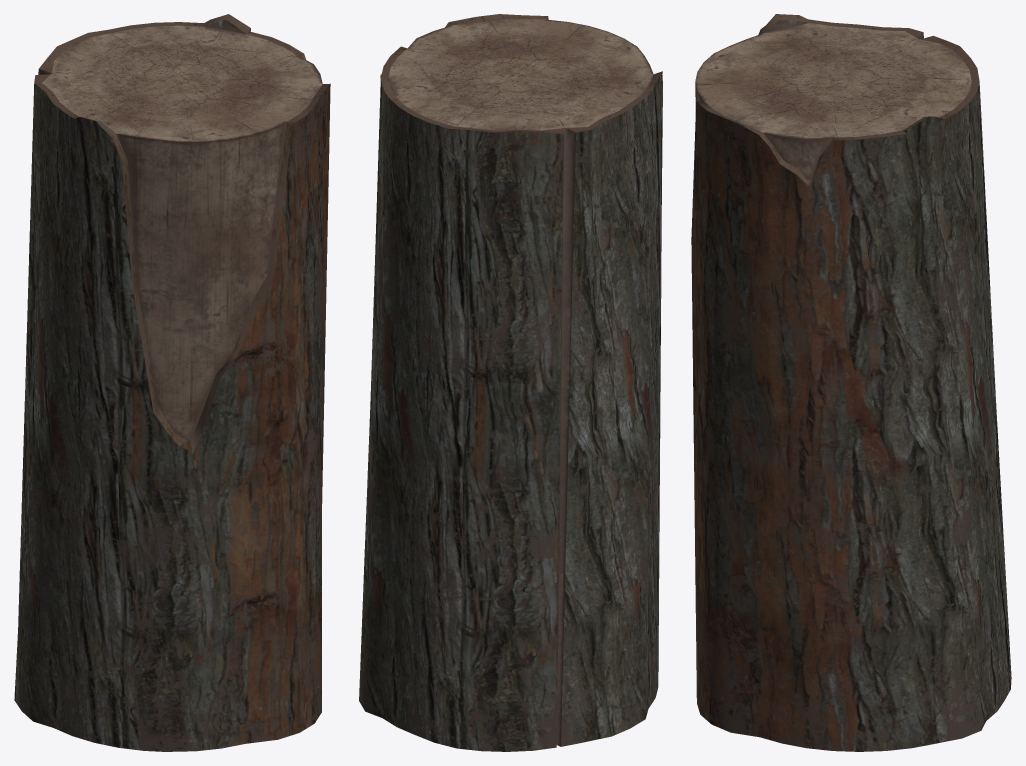
The model's file is Stump.fbx.
3 views of the same model, side by side, from view 1: azimuth 30°, elevation 25°; view 2: azimuth 150°, elevation 25°; view 3: azimuth 270°, elevation 25° (orthographic).
Parts seen in each view (by area): view 1: Stump; view 2: Stump; view 3: Stump.
Part boxes in pixels (left/top/right/bottom): Stump: left=14, top=14, right=330, bottom=751; Stump: left=359, top=14, right=662, bottom=751; Stump: left=691, top=14, right=1011, bottom=751.
Size of the model in its own units: 32.52 by 73.03 by 34.17.
